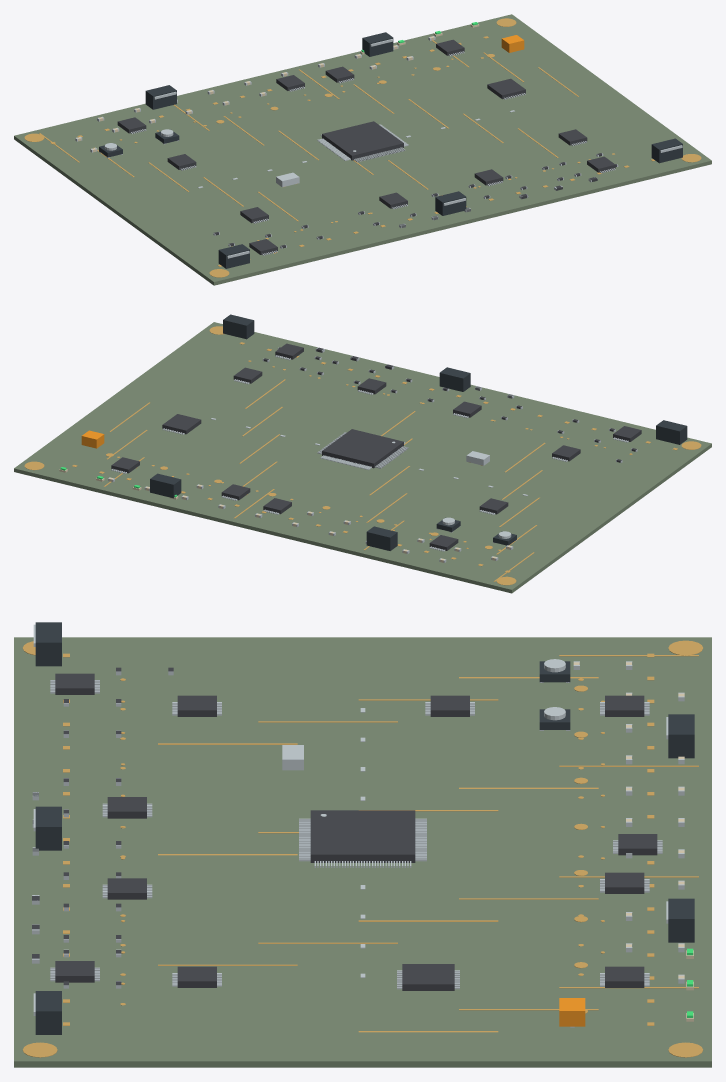
Rendered from L101_MLX9_Assembled_Reference.glb.
The picture shows the model from 3 angles, top to bottom: view 1: azimuth 30°, elevation 25°; view 2: azimuth 150°, elevation 25°; view 3: azimuth 270°, elevation 25°; orthographic projection. The views are drawn at different scales.
Visible parts, largest first — view 1: L101_PCB_FR4_Core_FR4_6Layer_Dielectric_582, L101_U1_Molded_144Pin_QFP_Body_0, L101_J1_Connector_Shell_491, L101_J2_Connector_Shell_501, L101_J5_Connector_Shell_531, L101_J4_Connector_Shell_521, L101_J3_Connector_Shell_511, L101_U3_Epoxy_Package_163; view 2: L101_PCB_FR4_Core_FR4_6Layer_Dielectric_582, L101_U1_Molded_144Pin_QFP_Body_0, L101_J1_Connector_Shell_491, L101_J2_Connector_Shell_501, L101_J3_Connector_Shell_511, L101_J5_Connector_Shell_531, L101_J4_Connector_Shell_521, L101_U3_Epoxy_Package_163; view 3: L101_PCB_FR4_Core_FR4_6Layer_Dielectric_582, L101_U1_Molded_144Pin_QFP_Body_0, L101_U3_Epoxy_Package_163, L101_J4_Connector_Shell_521, L101_J1_Connector_Shell_491, L101_J3_Connector_Shell_511, L101_J2_Connector_Shell_501, L101_J5_Connector_Shell_531, L101_U9_Epoxy_Package_269, L101_U10_Epoxy_Package_286, L101_U13_Epoxy_Package_337, L101_U2_Epoxy_Package_146 (+8 smaller).
Part boxes in pixels (x1,y1,x2,y2): L101_PCB_FR4_Core_FR4_6Layer_Dielectric_582: (14,14,711,285); L101_U1_Molded_144Pin_QFP_Body_0: (322,121,403,160); L101_J1_Connector_Shell_491: (218,244,249,268); L101_J2_Connector_Shell_501: (145,85,176,109); L101_J5_Connector_Shell_531: (651,138,682,163); L101_J4_Connector_Shell_521: (362,32,393,56); L101_J3_Connector_Shell_511: (435,191,466,215); L101_U3_Epoxy_Package_163: (487,78,525,99); L101_PCB_FR4_Core_FR4_6Layer_Dielectric_582: (14,322,711,593); L101_U1_Molded_144Pin_QFP_Body_0: (322,429,403,468); L101_J1_Connector_Shell_491: (656,420,687,444); L101_J2_Connector_Shell_501: (366,526,397,550); L101_J3_Connector_Shell_511: (439,367,470,391); L101_J5_Connector_Shell_531: (223,314,254,339); L101_J4_Connector_Shell_521: (150,473,181,498); L101_U3_Epoxy_Package_163: (162,414,201,434); L101_PCB_FR4_Core_FR4_6Layer_Dielectric_582: (14,637,711,1067); L101_U1_Molded_144Pin_QFP_Body_0: (310,810,415,862); L101_U3_Epoxy_Package_163: (402,964,454,990); L101_J4_Connector_Shell_521: (668,898,694,942); L101_J1_Connector_Shell_491: (35,622,61,666); L101_J3_Connector_Shell_511: (35,806,61,850); L101_J2_Connector_Shell_501: (668,714,694,758); L101_J5_Connector_Shell_531: (35,991,61,1034); L101_U9_Epoxy_Package_269: (107,878,146,899); L101_U10_Epoxy_Package_286: (107,797,146,818); L101_U13_Epoxy_Package_337: (55,673,94,694); L101_U2_Epoxy_Package_146: (177,966,216,987).
Size of the model in its own units: 0.23 by 0.0095 by 0.16.
